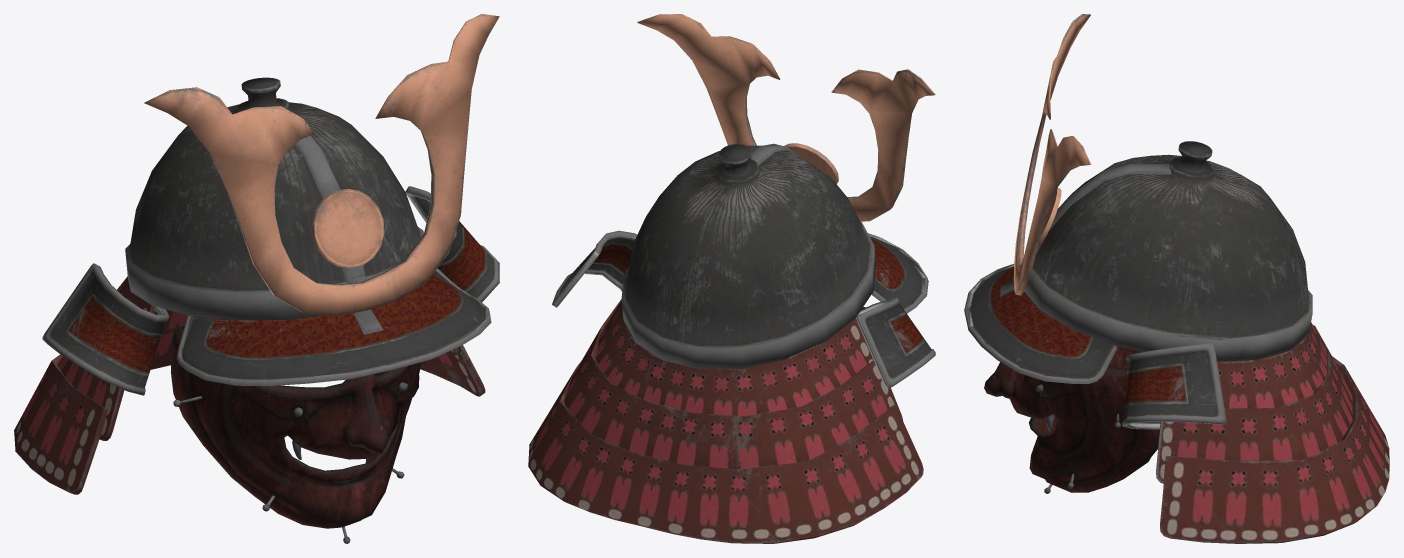
Rendered from kabuto.glb.
3 renders of one model, left to right at view 1: azimuth 30°, elevation 25°; view 2: azimuth 150°, elevation 25°; view 3: azimuth 270°, elevation 25°, orthographic. The views are drawn at different scales.
Parts seen in each view (by area): view 1: Samurai_Helmet_09_low001, Samurai_Mask_low001_UV_Samurai_Mask_0; view 2: Samurai_Helmet_09_low001; view 3: Samurai_Helmet_09_low001, Samurai_Mask_low001_UV_Samurai_Mask_0.
Part boxes in pixels (box(x1,y1,x2,y2)): Samurai_Helmet_09_low001: box(14, 14, 499, 494); Samurai_Mask_low001_UV_Samurai_Mask_0: box(171, 326, 421, 543); Samurai_Helmet_09_low001: box(528, 14, 935, 543); Samurai_Helmet_09_low001: box(964, 14, 1389, 543); Samurai_Mask_low001_UV_Samurai_Mask_0: box(984, 346, 1159, 493).
Bounding box in the file's own units: 37.05 × 39.66 × 36.84.
Materials: 2 (2 with a texture image).
